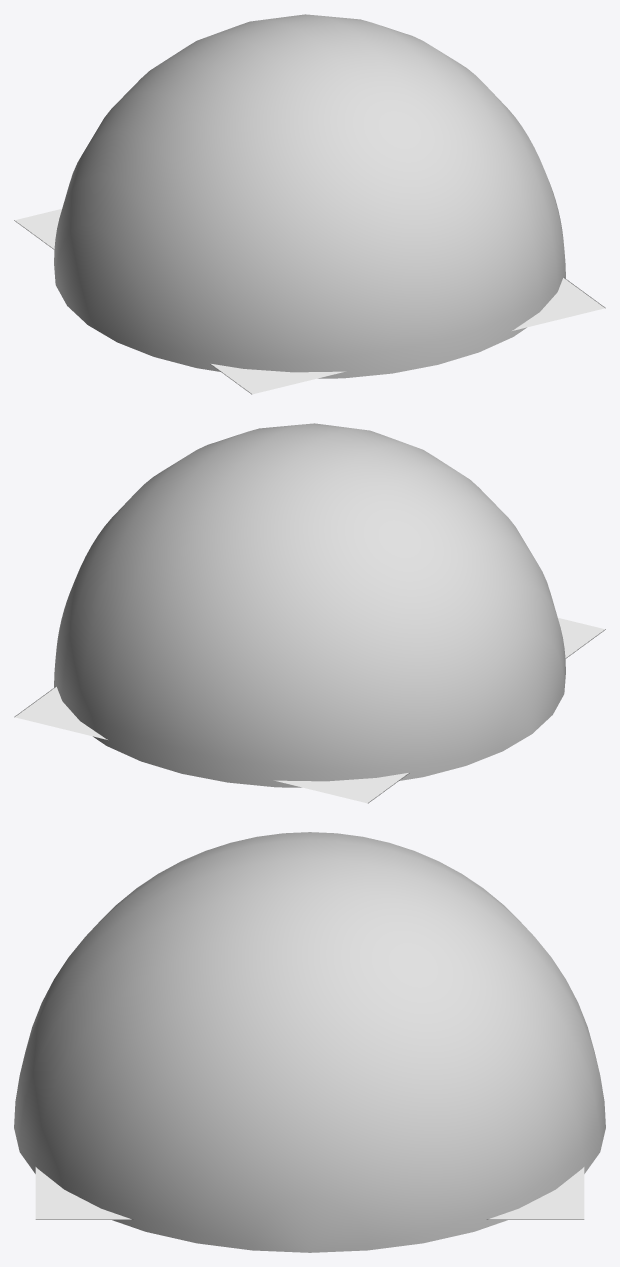
The model's file is plattegrond.FBX.
The picture shows the model from 3 angles, top to bottom: view 1: azimuth 30°, elevation 25°; view 2: azimuth 150°, elevation 25°; view 3: azimuth 270°, elevation 25°; orthographic projection. The views are drawn at different scales.
Visible parts, largest first — view 1: Sphere001, floor; view 2: Sphere001, floor; view 3: Sphere001, floor.
Part boxes in pixels (x1=…): Sphere001: x1=54, y1=14, x2=565, y2=378; floor: x1=14, y1=209, x2=605, y2=394; Sphere001: x1=54, y1=423, x2=565, y2=787; floor: x1=14, y1=618, x2=605, y2=803; Sphere001: x1=14, y1=832, x2=605, y2=1252; floor: x1=35, y1=1167, x2=584, y2=1219.
Size of the model in its own units: 2516 by 1258 by 2516.
1 material, 1 textured.
